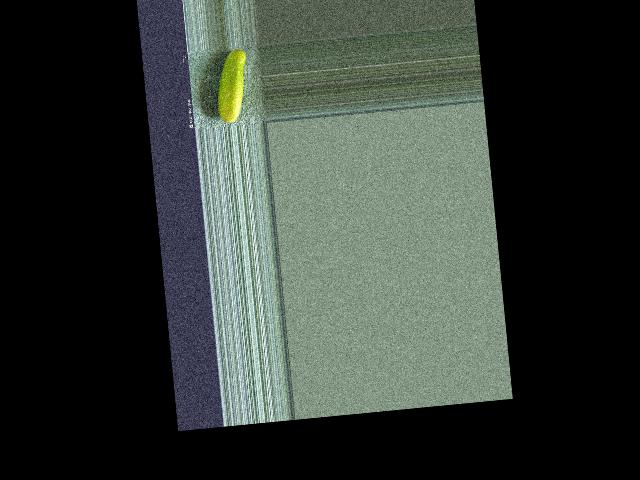cucumber: (212, 48, 251, 123)
